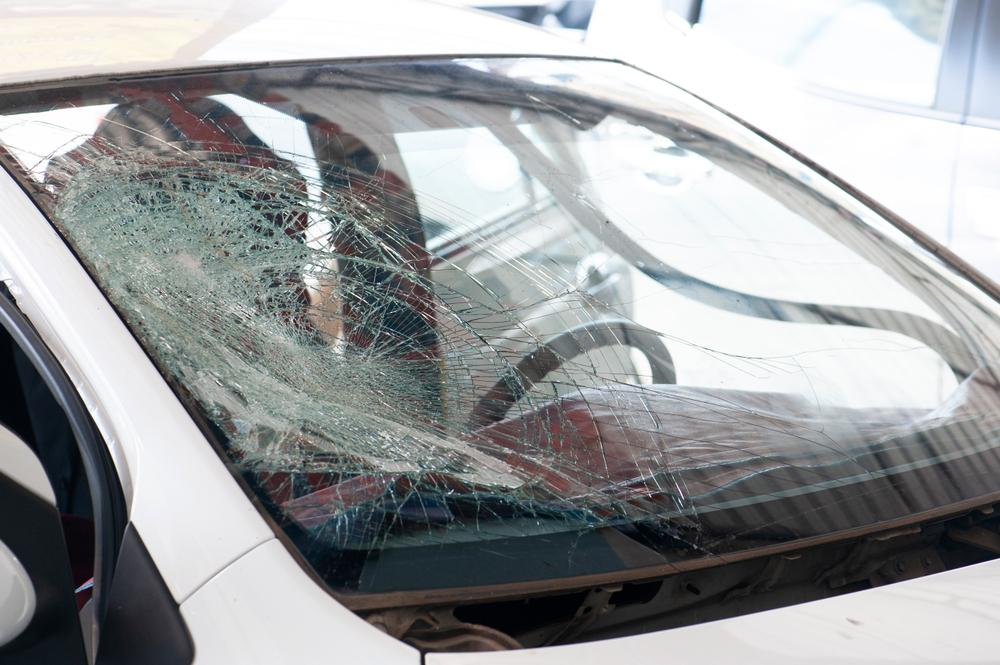glass shatter: (0, 57, 1000, 595)
